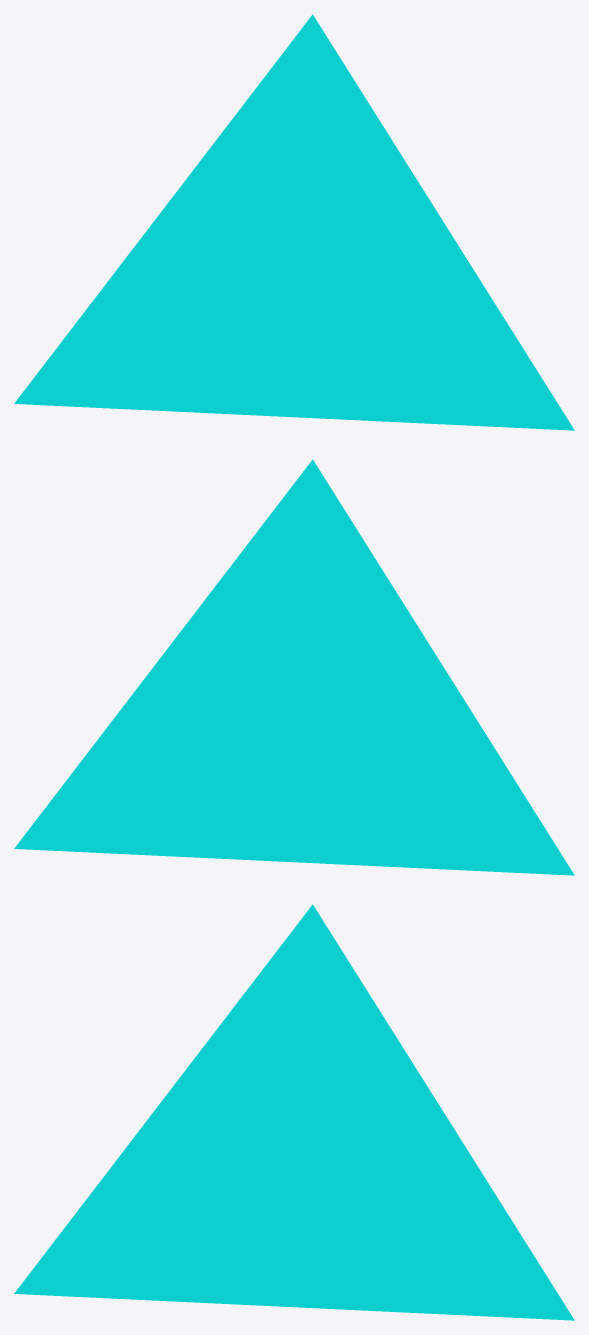
The model's file is Tetraedro.fbx.
3 renders of one model, top to bottom at view 1: azimuth 30°, elevation 25°; view 2: azimuth 150°, elevation 25°; view 3: azimuth 270°, elevation 25°, orthographic.
Parts seen in each view (by area): view 1: Model; view 2: Model; view 3: Model.
Boxes of the visible parts, x1,y1,x2,y2 form: Model: (14, 14, 574, 430); Model: (14, 459, 574, 875); Model: (14, 904, 574, 1320).
Bounding box in the file's own units: 5557 × 3963 × 6024.
